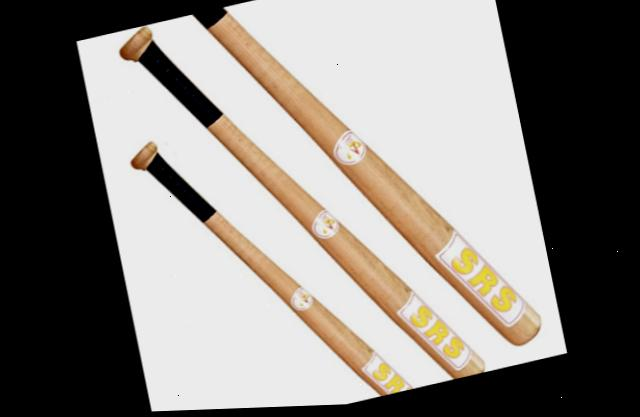baseball bat: (95, 0, 566, 414)
